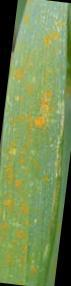Wheat: (27, 16, 62, 137), (6, 110, 20, 278)
